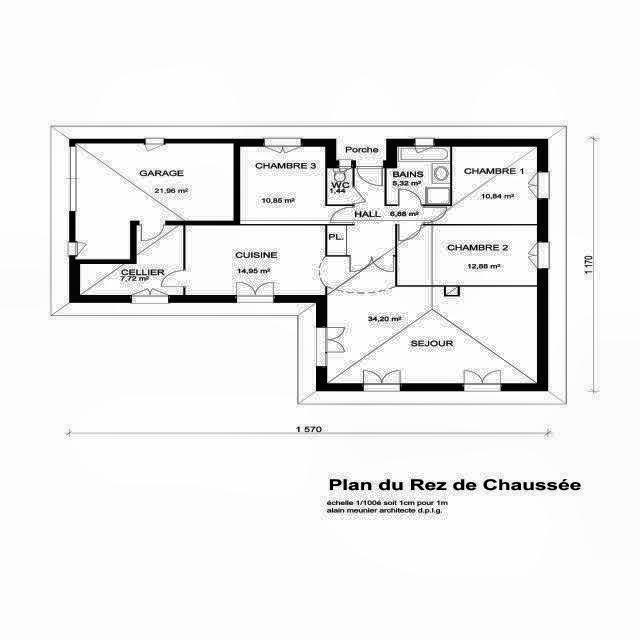room: (185, 225, 537, 383), (75, 143, 234, 259), (186, 225, 325, 295), (240, 147, 353, 224), (425, 147, 537, 224), (327, 168, 423, 256), (398, 226, 537, 285), (80, 225, 183, 295), (387, 147, 450, 205), (327, 168, 353, 205)
